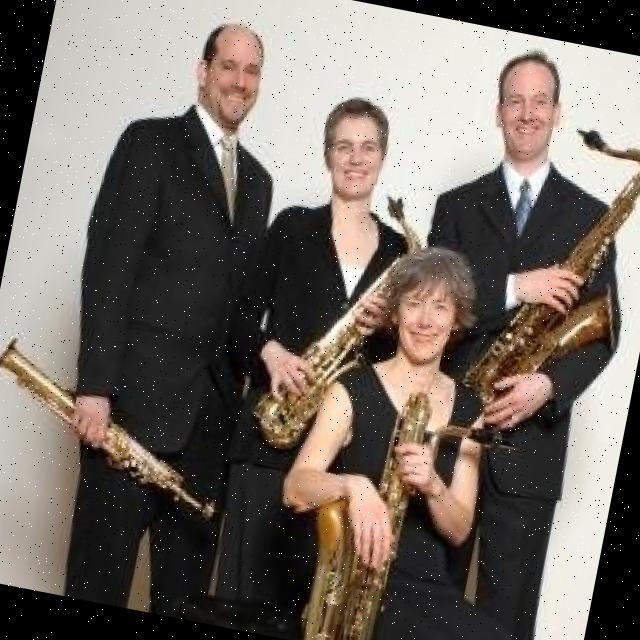saxophone: (279, 371, 527, 640), (457, 102, 640, 433), (243, 172, 438, 476)
